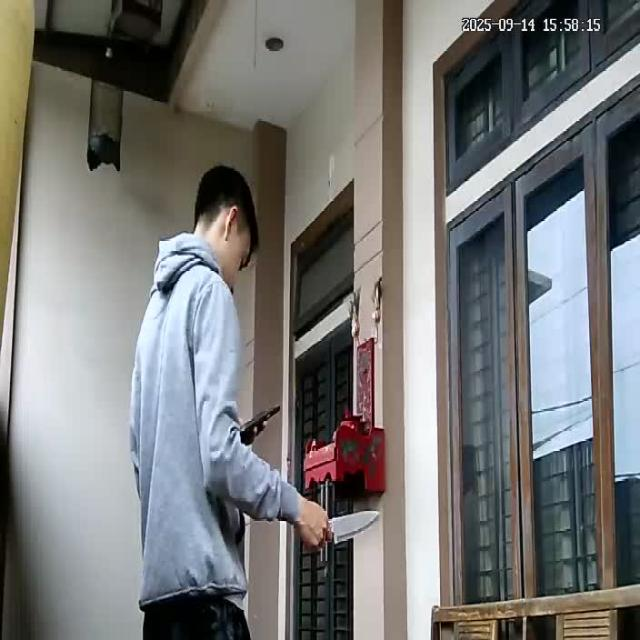senjata_tajam: (331, 509, 381, 546)
